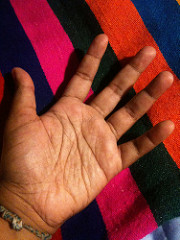palm: (9, 102, 111, 214)
